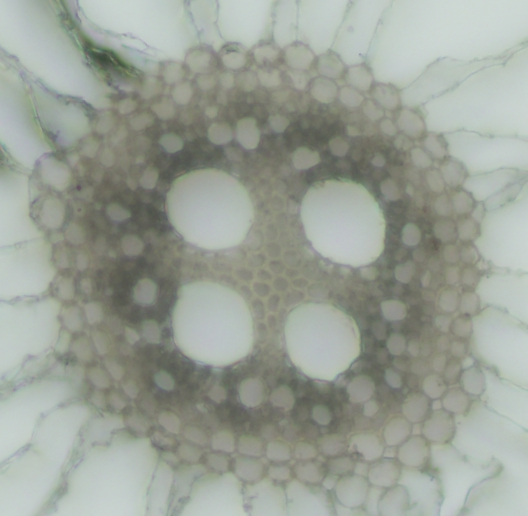lm: (299, 177, 386, 266), (165, 167, 255, 250), (171, 281, 255, 365), (284, 300, 361, 382)
